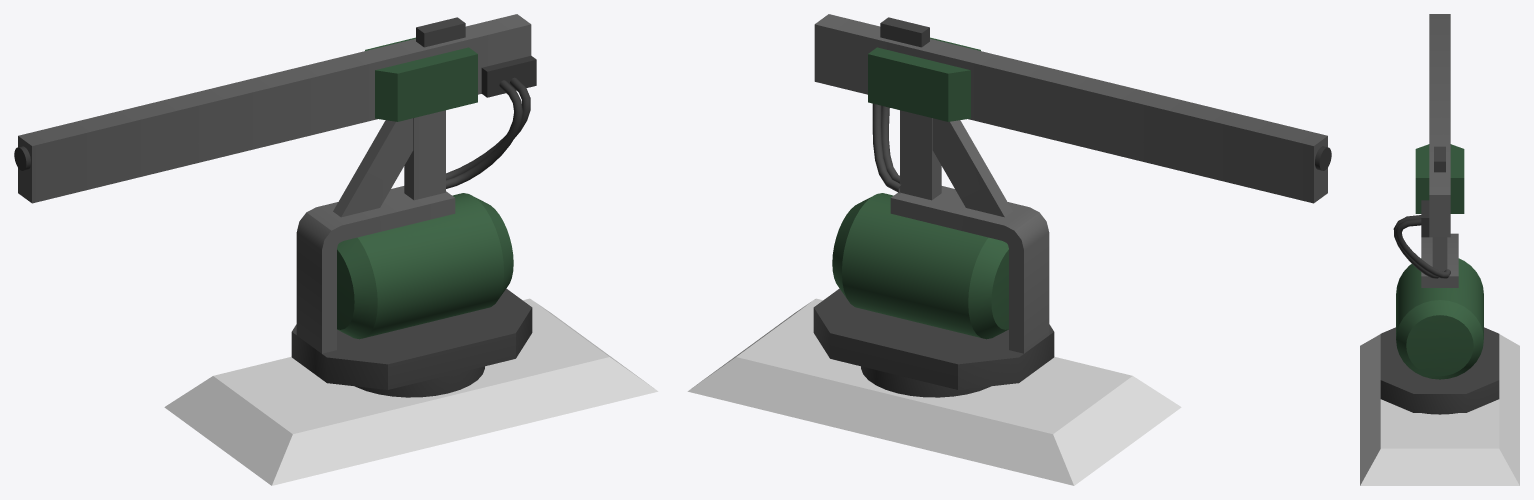
File: Turret.fbx
The picture shows the model from 3 angles, left to right: view 1: azimuth 30°, elevation 25°; view 2: azimuth 150°, elevation 25°; view 3: azimuth 270°, elevation 25°; orthographic projection. The views are drawn at different scales.
Visible parts, largest first — view 1: Turret_body, Turret_base; view 2: Turret_body, Turret_base; view 3: Turret_body, Turret_base.
Part boxes in pixels (x1,y1,x2,y2): Turret_body: (14, 14, 536, 397); Turret_base: (164, 298, 658, 485); Turret_body: (813, 14, 1331, 397); Turret_base: (687, 298, 1181, 485); Turret_body: (1380, 14, 1499, 414); Turret_base: (1360, 334, 1519, 485).
Size of the model in its own units: 151 by 90.62 by 48.16.
